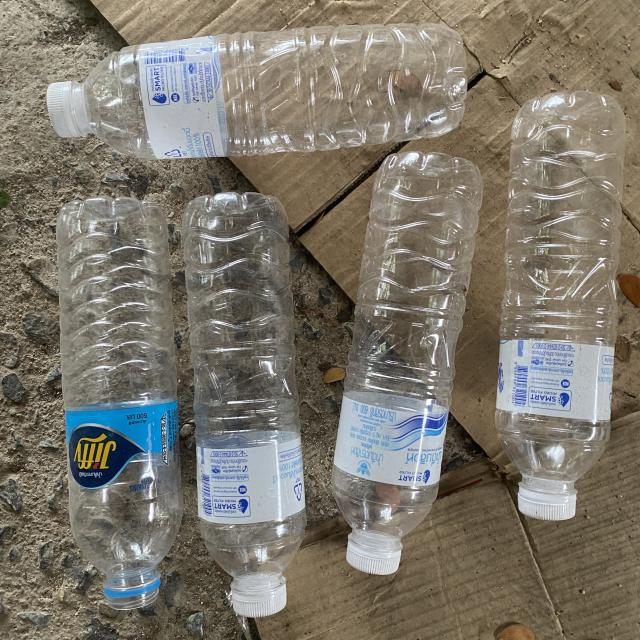plastik: (332, 152, 482, 575), (48, 24, 466, 159), (495, 91, 625, 520), (182, 192, 305, 618), (56, 198, 182, 610)
